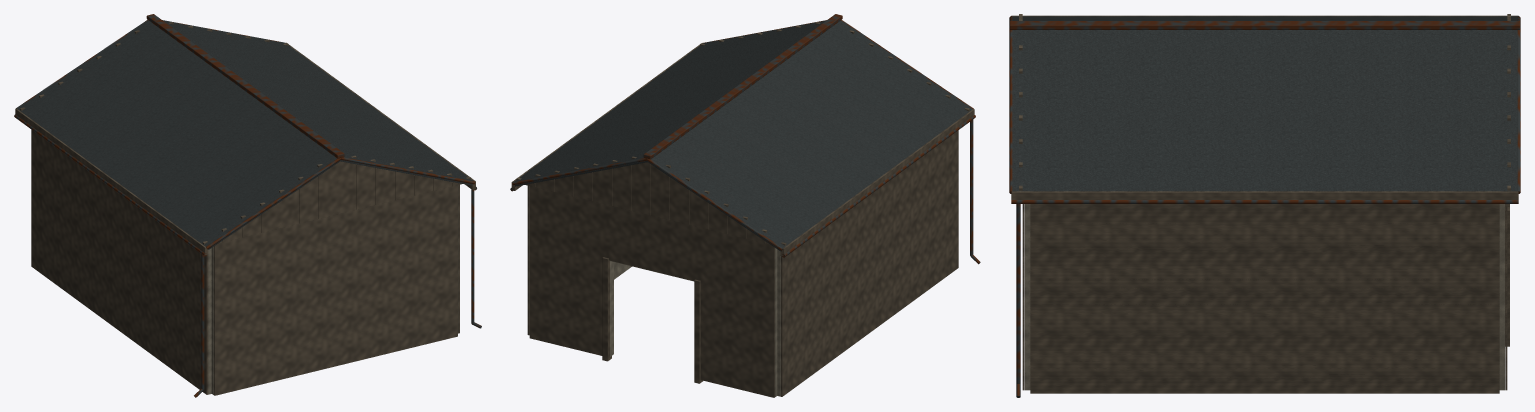
File: Barn_LOD1.fbx
3 views of the same model, side by side, from view 1: azimuth 30°, elevation 25°; view 2: azimuth 150°, elevation 25°; view 3: azimuth 270°, elevation 25° (orthographic). The views are drawn at different scales.
Visible parts, largest first — view 1: Barn_LOD1; view 2: Barn_LOD1; view 3: Barn_LOD1.
Boxes of the visible parts, x1,y1,x2,y2 form: Barn_LOD1: [14, 14, 481, 397]; Barn_LOD1: [510, 14, 980, 397]; Barn_LOD1: [1009, 14, 1520, 397].
Bounding box in the file's own units: 945 × 687 × 1089.
